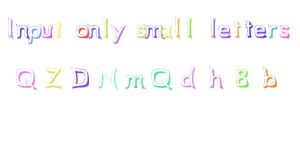8: (234, 67, 250, 88)
D: (69, 65, 91, 90)
I: (5, 15, 20, 39)
N: (95, 65, 120, 91)
Q: (14, 66, 38, 90), (150, 66, 173, 91)
Z: (43, 66, 62, 89)
a: (159, 23, 174, 40)
b: (261, 65, 278, 90)
d: (180, 66, 197, 90)
e: (217, 22, 232, 40), (253, 23, 266, 39)
h: (208, 66, 224, 89)
l: (207, 14, 218, 39), (184, 16, 195, 39), (173, 15, 182, 39), (101, 16, 110, 38)
m: (123, 73, 146, 89), (143, 23, 163, 40)
n: (87, 23, 102, 41), (15, 23, 30, 39)
o: (75, 23, 89, 40)
p: (26, 23, 41, 45)
r: (267, 23, 278, 40)
s: (278, 22, 291, 39), (134, 24, 147, 39)
t: (243, 18, 253, 39), (54, 19, 64, 38), (232, 18, 241, 39)
u: (39, 23, 53, 39)
y: (110, 23, 126, 46)
